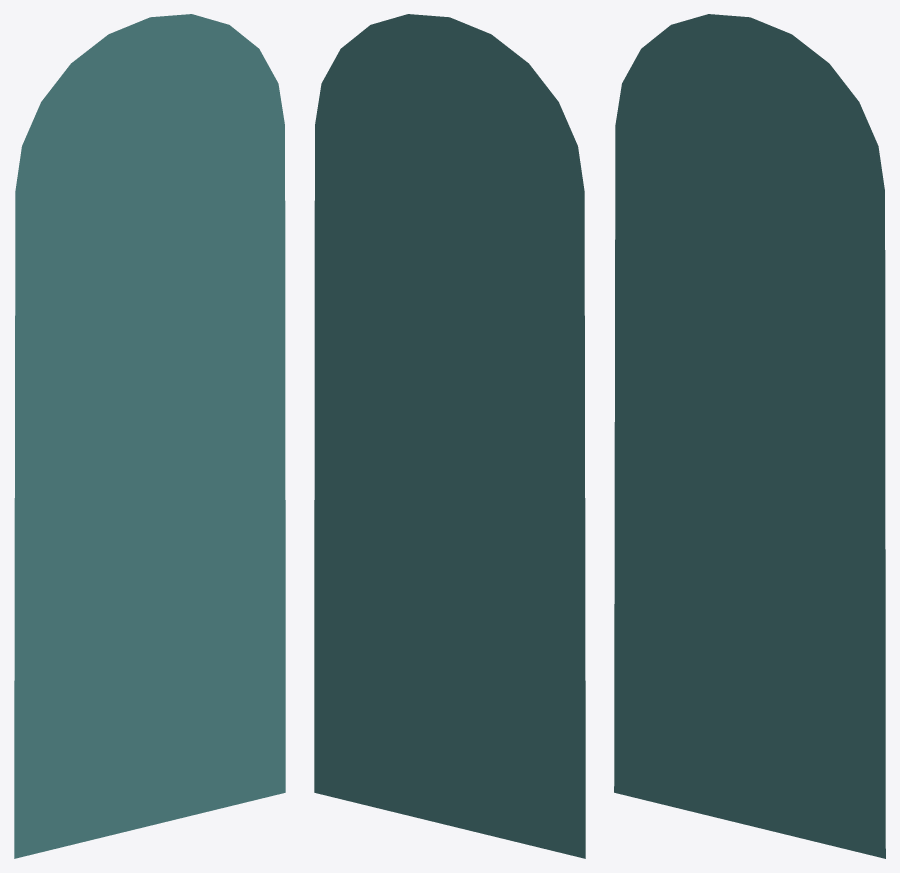
File: lib_set_01_glass_01.fbx
3 views of the same model, side by side, from view 1: azimuth 30°, elevation 25°; view 2: azimuth 150°, elevation 25°; view 3: azimuth 330°, elevation 25° (orthographic).
Visible parts, largest first — view 1: lib_set_01_glass_01; view 2: lib_set_01_glass_01; view 3: lib_set_01_glass_01.
Part boxes in pixels (x1,y1,x2,y2): lib_set_01_glass_01: [14, 14, 285, 858]; lib_set_01_glass_01: [314, 14, 585, 858]; lib_set_01_glass_01: [614, 14, 885, 858].
Bounding box in the file's own units: 12.36 × 35.16 × 0.
